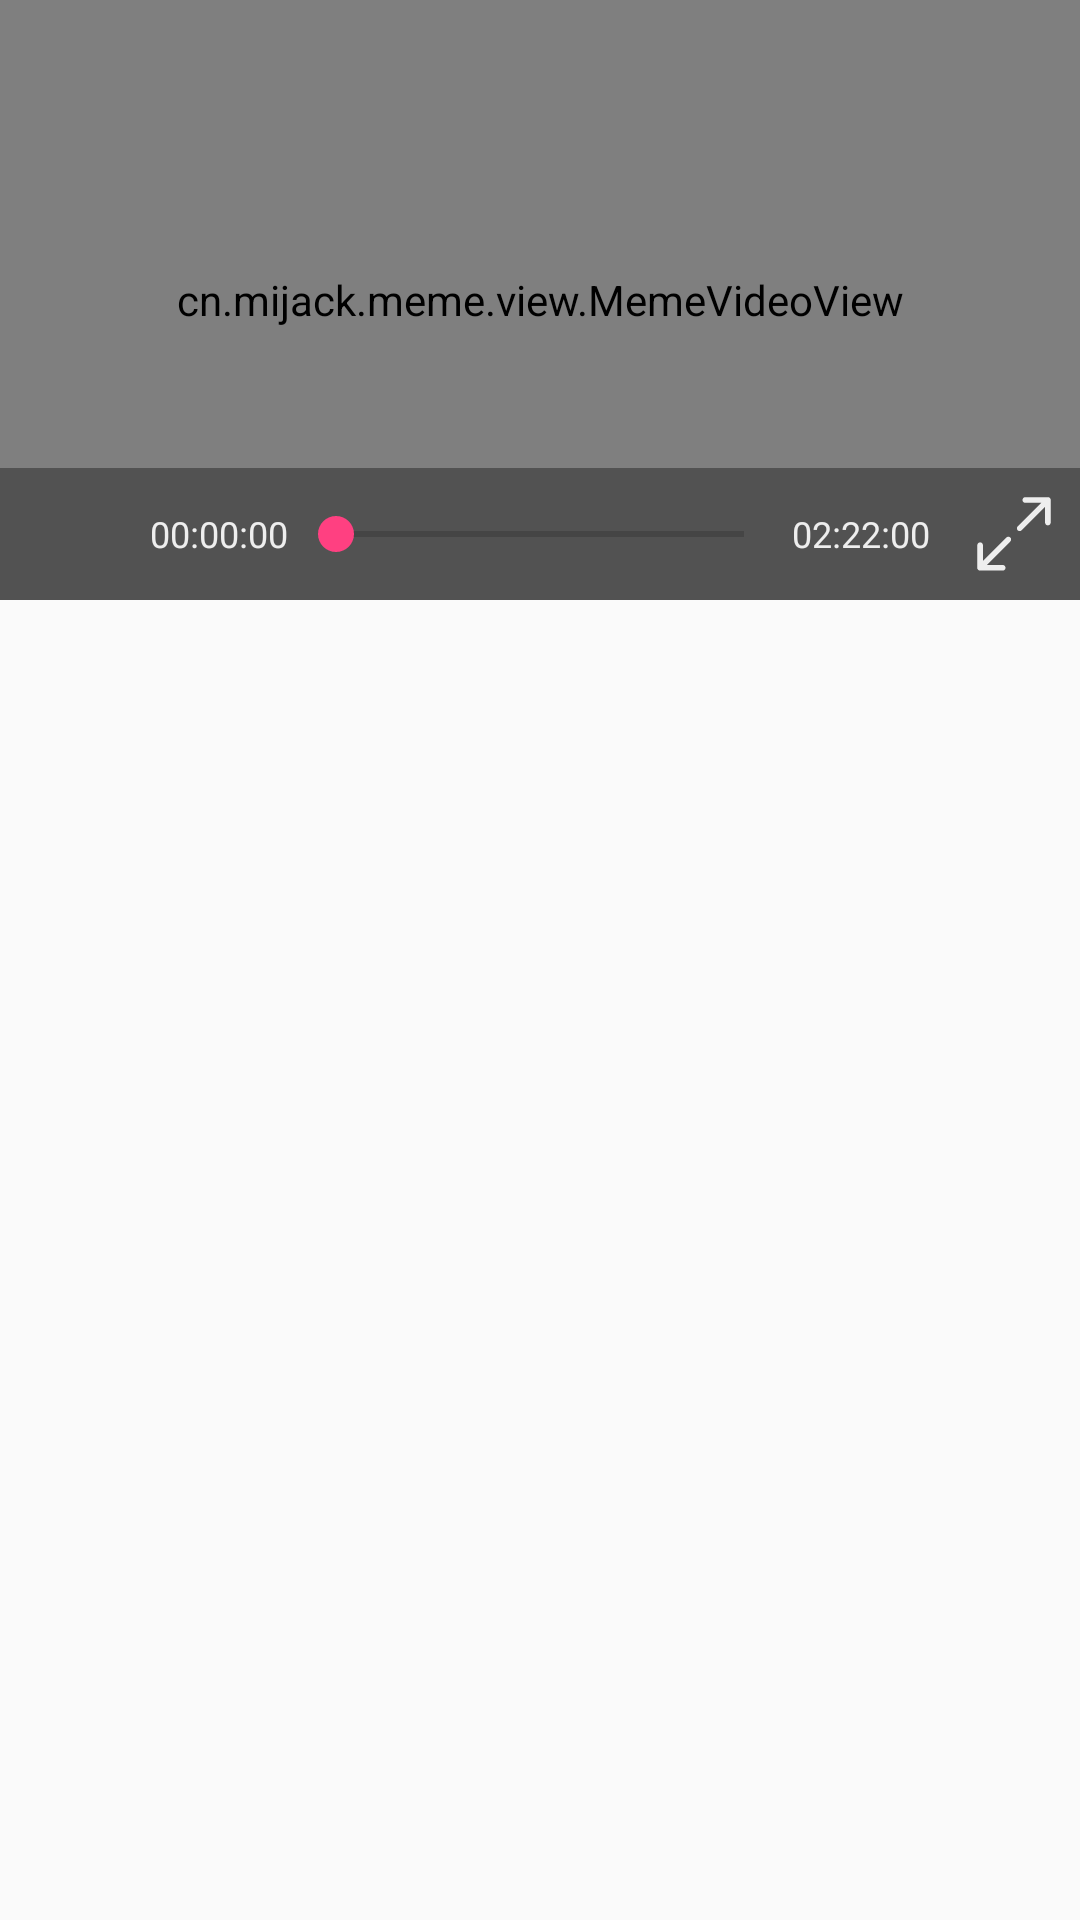

Where icons sit on this 1080 x 1920 app screen, as (x1, y1, x2, y2):
fullscreen: (977, 497, 1051, 571)
